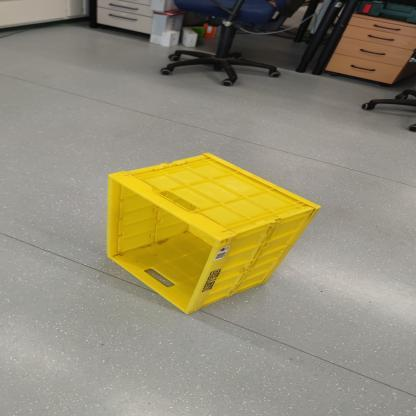-: (103, 121, 325, 329)
